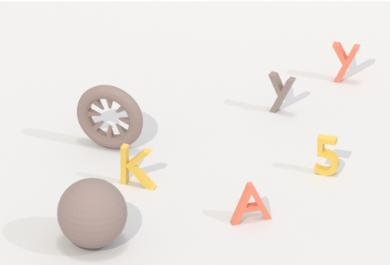0-Tron: (53, 173, 129, 255)
0-TronLo: (74, 82, 147, 152)
5: (311, 131, 343, 179)
A: (227, 176, 274, 229)
K: (119, 140, 157, 193)
y: (327, 36, 364, 86), (263, 67, 299, 117)
